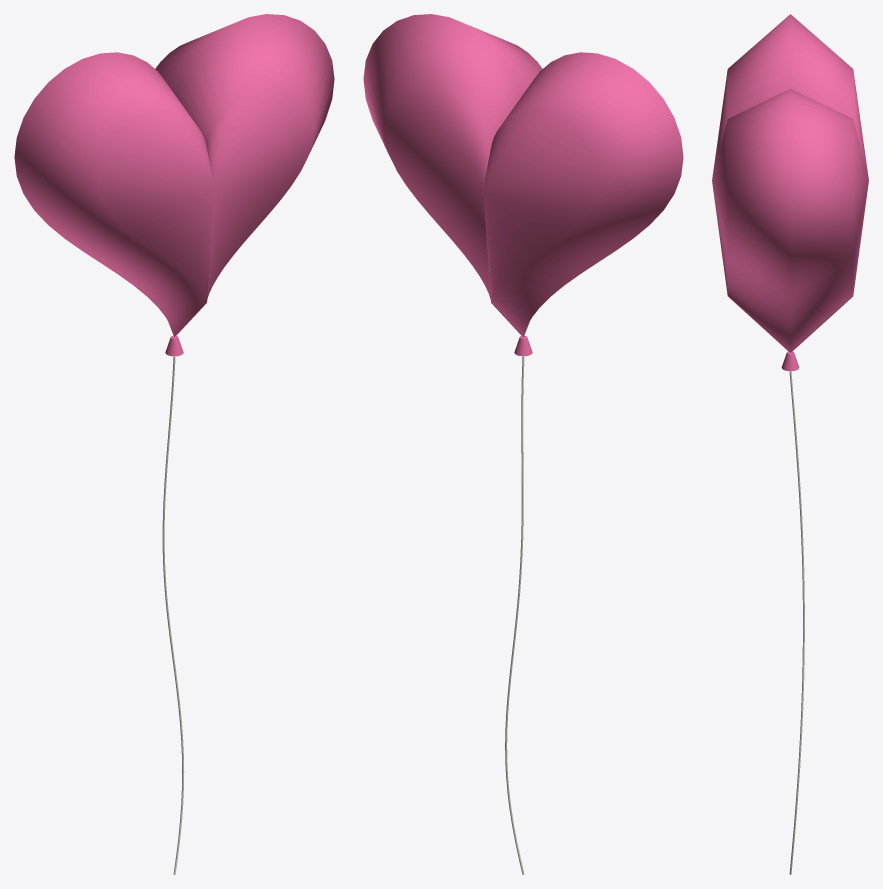
File: balloon_heart_pink.glb
The picture shows the model from 3 angles, left to right: view 1: azimuth 30°, elevation 25°; view 2: azimuth 150°, elevation 25°; view 3: azimuth 270°, elevation 25°; orthographic projection. The views are drawn at different scales.
Visible parts, largest first — view 1: Heart shaped balloon, Trailing string; view 2: Heart shaped balloon, Trailing string; view 3: Heart shaped balloon, Trailing string.
Part boxes in pixels (left/top/right/bottom): Heart shaped balloon: left=14, top=14, right=334, bottom=337; Trailing string: left=162, top=356, right=184, bottom=874; Heart shaped balloon: left=363, top=14, right=683, bottom=337; Trailing string: left=505, top=356, right=524, bottom=874; Heart shaped balloon: left=712, top=14, right=868, bottom=352; Trailing string: left=789, top=371, right=804, bottom=874.
Size of the model in its own units: 0.48 by 1.2 by 0.21.
